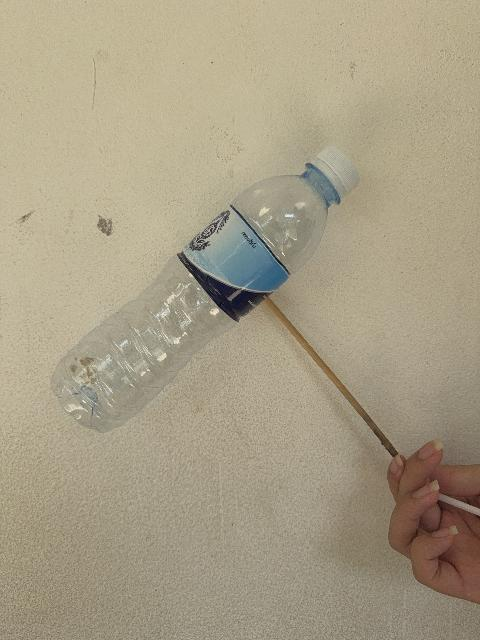bottle: (51, 148, 358, 431)
